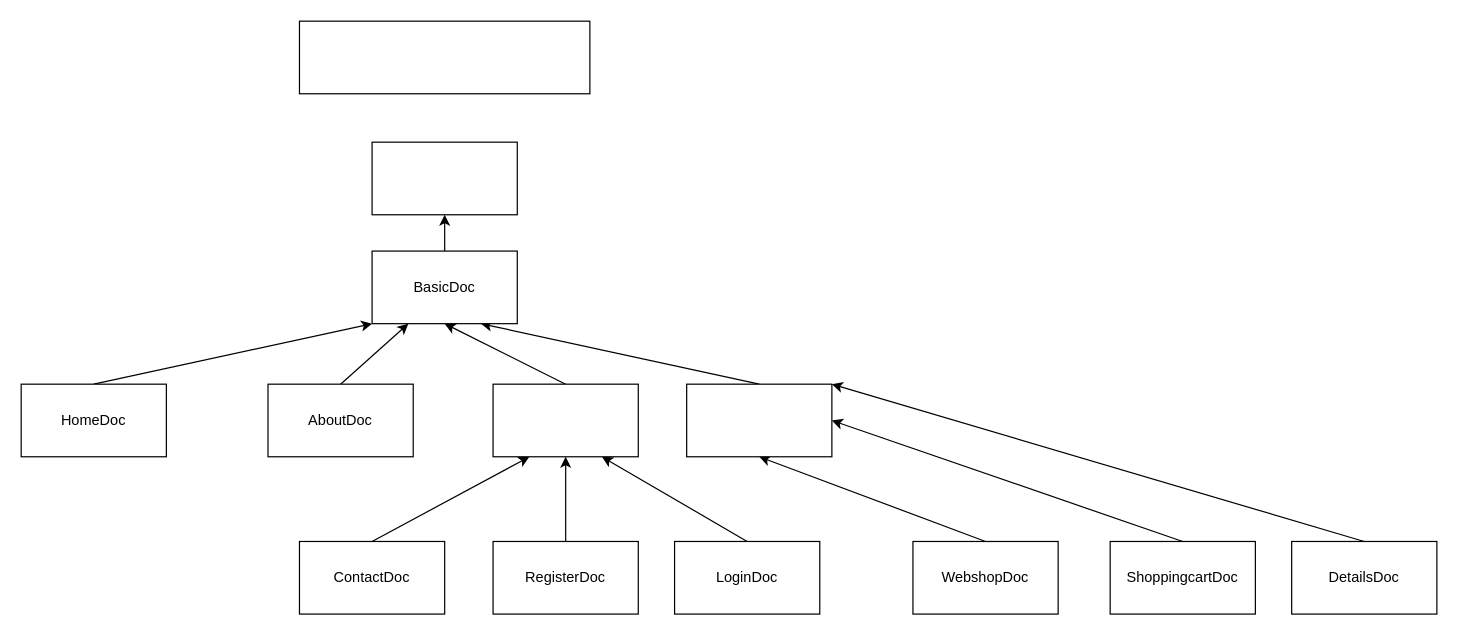
Image size: 1458x635. Some labels were removed from this diagram. The shapes that lost their labels are listed below. From the top down, each one's box as (x1, y1, x2, y2) in pixels, then its label:
(298, 20, 590, 94): Class Inheritance Diagram
(371, 141, 517, 215): HtmlDoc
(492, 383, 638, 457): FormsDoc
(685, 383, 832, 457): ProductsDoc
